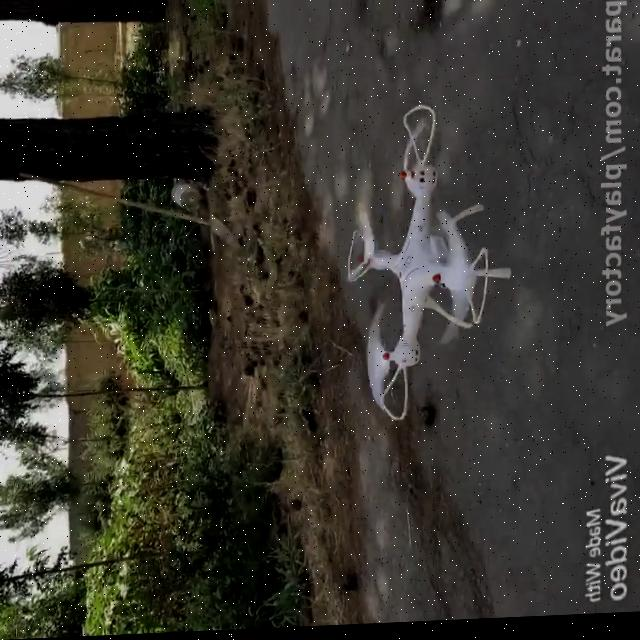drone: (346, 104, 509, 426)
